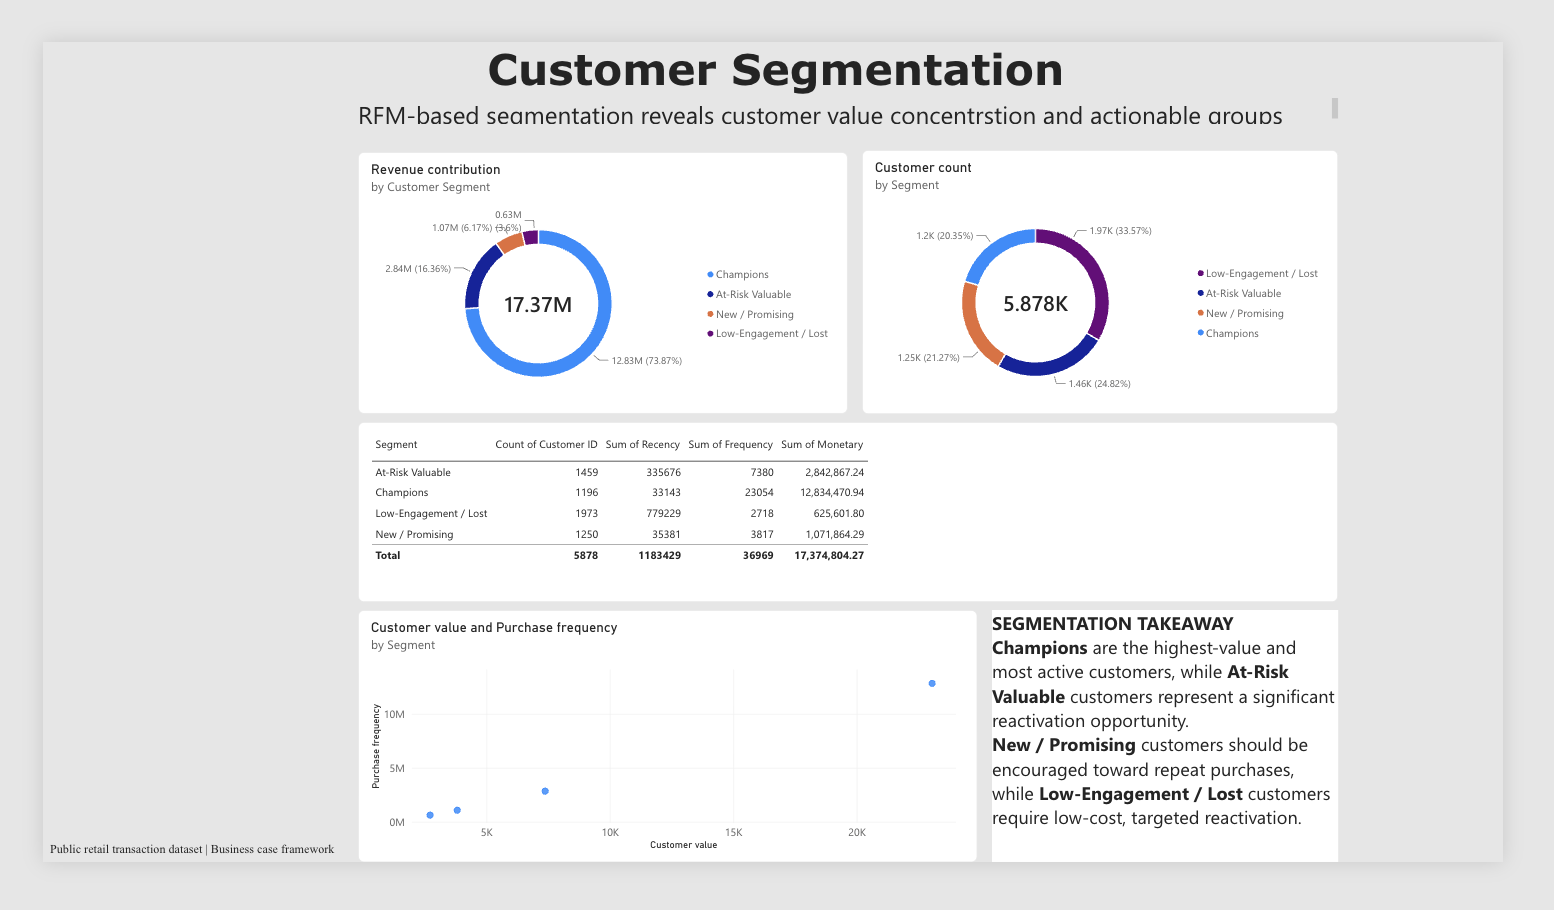

This screenshot's page, from the dashboard's own definition file:
{"tool":"powerbi","page":{"name":"Customer Segmentation","canvas":[1920,1080],"ordinal":2},"visuals":[{"type":"donutChart","fields":{"Category":["final_customer_segments.Segment"],"Y":["Sum(final_customer_segments.Monetary)"]},"box":[100.4,30.9,367,343.8],"z":0},{"type":"donutChart","fields":{"Category":["final_customer_segments.Segment"],"Y":["CountNonNull(final_customer_segments.Customer ID)"]},"box":[467.4,27,448.1,347.7],"z":1000},{"type":"tableEx","fields":{"Values":["final_customer_segments.Segment","CountNonNull(final_customer_segments.Customer ID)","Sum(final_customer_segments.Recency)","Sum(final_customer_segments.Frequency)","Sum(final_customer_segments.Monetary)"]},"box":[100.4,374.7,815.1,235.7],"z":2000},{"type":"scatterChart","fields":{"Category":["final_customer_segments.Segment"],"X":["Sum(final_customer_segments.Frequency)"],"Y":["Sum(final_customer_segments.Monetary)"]},"box":[100.4,610.4,815.1,332.2],"z":3000}]}

Visuals, with their boxes on the page's 1920x1080 design canvas (x1, y1, x2, y2). These are canvas units, not pixel positions in the 1554x910 screenshot, which may show the page scaled, cropped or inside an application window:
donutChart - final_customer_segments.Segment x Sum(final_customer_segments.Monetary): (100,31,467,375)
donutChart - final_customer_segments.Segment x CountNonNull(final_customer_segments.Customer ID): (467,27,916,375)
tableEx - final_customer_segments.Segment x CountNonNull(final_customer_segments.Customer ID): (100,375,916,610)
scatterChart - final_customer_segments.Segment x Sum(final_customer_segments.Frequency): (100,610,916,943)
